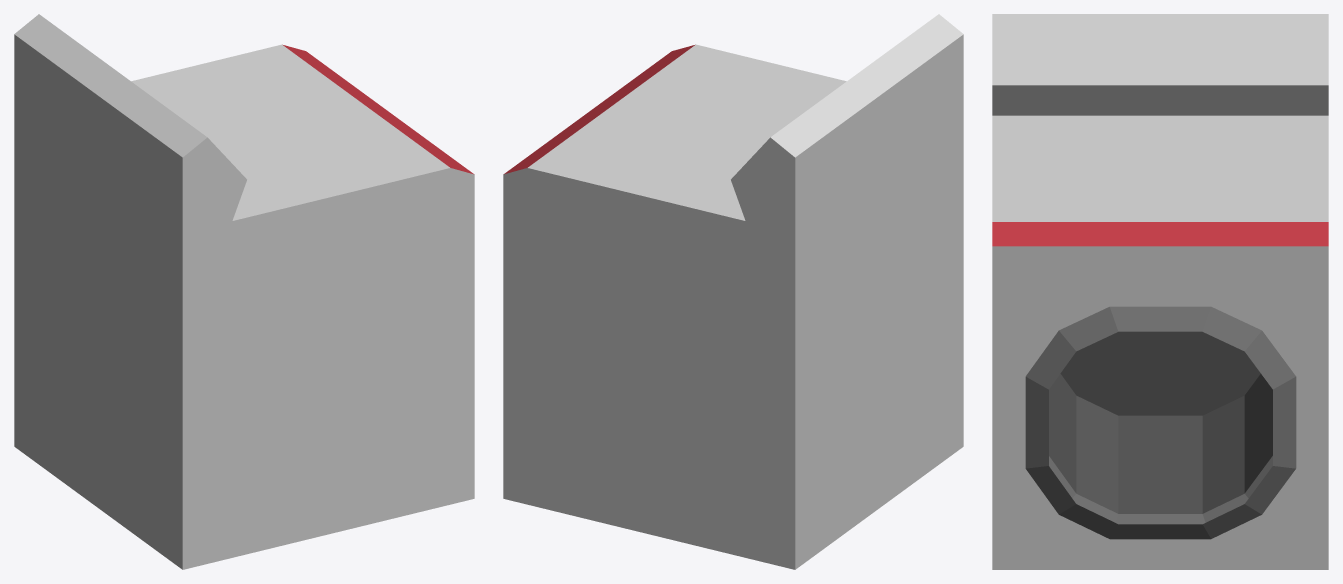
File: WashingMachine_Base.fbx
3 views of the same model, side by side, from view 1: azimuth 30°, elevation 25°; view 2: azimuth 150°, elevation 25°; view 3: azimuth 270°, elevation 25° (orthographic).
Visible parts, largest first — view 1: WashingMachine_Base; view 2: WashingMachine_Base; view 3: WashingMachine_Base.
Boxes of the visible parts, x1,y1,x2,y2 form: WashingMachine_Base: (14, 14, 474, 569); WashingMachine_Base: (503, 14, 963, 569); WashingMachine_Base: (992, 14, 1328, 569).
Bounding box in the file's own units: 214 × 279 × 200.
